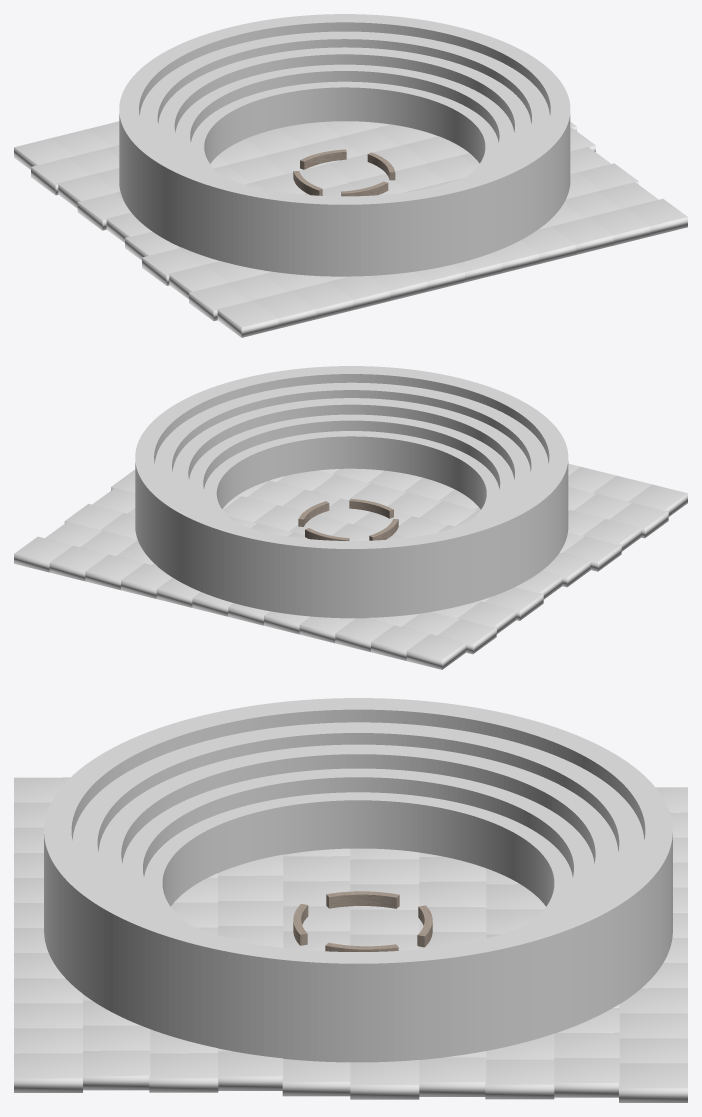
3 renders of one model, top to bottom at view 1: azimuth 30°, elevation 25°; view 2: azimuth 150°, elevation 25°; view 3: azimuth 270°, elevation 25°, orthographic. The views are drawn at different scales.
Visible parts, largest first — view 1: 圓柱體.004, floor.001, 圓柱體, 圓柱體.003, 圓柱體.002, 圓柱體.001, 內圈5; view 2: 圓柱體.004, floor.001, 圓柱體, 圓柱體.003, 圓柱體.002, 圓柱體.001, 內圈2; view 3: 圓柱體.004, floor.001, 圓柱體, 圓柱體.003, 圓柱體.002, 圓柱體.001, 內圈1.
Boxes of the visible parts, <box> form: 圓柱體.004: <box>119,14,570,276</box>; floor.001: <box>14,121,687,337</box>; 圓柱體: <box>191,81,498,175</box>; 圓柱體.003: <box>139,31,549,187</box>; 圓柱體.002: <box>158,47,531,188</box>; 圓柱體.001: <box>175,64,513,175</box>; 內圈5: <box>300,149,346,169</box>; 圓柱體.004: <box>135,366,568,618</box>; floor.001: <box>14,463,687,669</box>; 圓柱體: <box>204,431,499,521</box>; 圓柱體.003: <box>155,382,548,532</box>; 圓柱體.002: <box>172,398,530,533</box>; 圓柱體.001: <box>189,414,514,521</box>; 內圈2: <box>349,498,393,518</box>; 圓柱體.004: <box>44,698,672,1062</box>; floor.001: <box>14,777,687,1102</box>; 圓柱體: <box>144,792,572,923</box>; 圓柱體.003: <box>72,722,644,939</box>; 圓柱體.002: <box>98,744,618,940</box>; 圓柱體.001: <box>122,768,594,923</box>; 內圈1: <box>326,891,399,908</box>.
Size of the model in its own units: 28455 by 4861 by 25670.
Materials: 4 (1 with a texture image).
